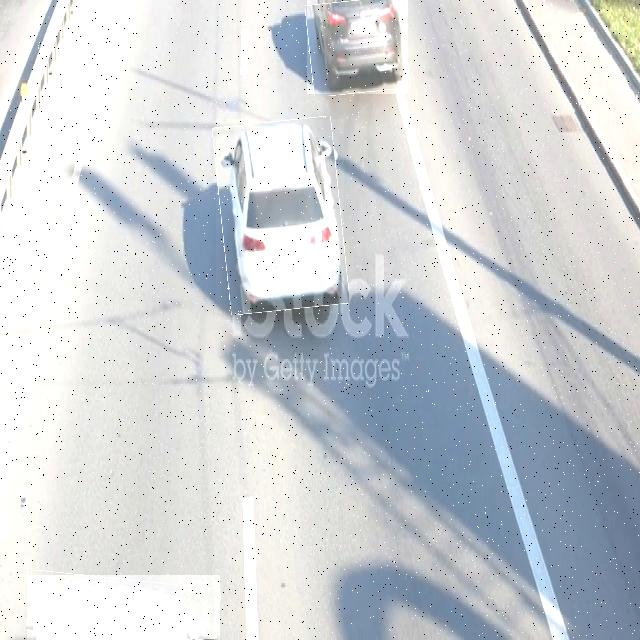Car: (216, 119, 344, 313), (27, 575, 220, 640), (307, 0, 408, 94)
